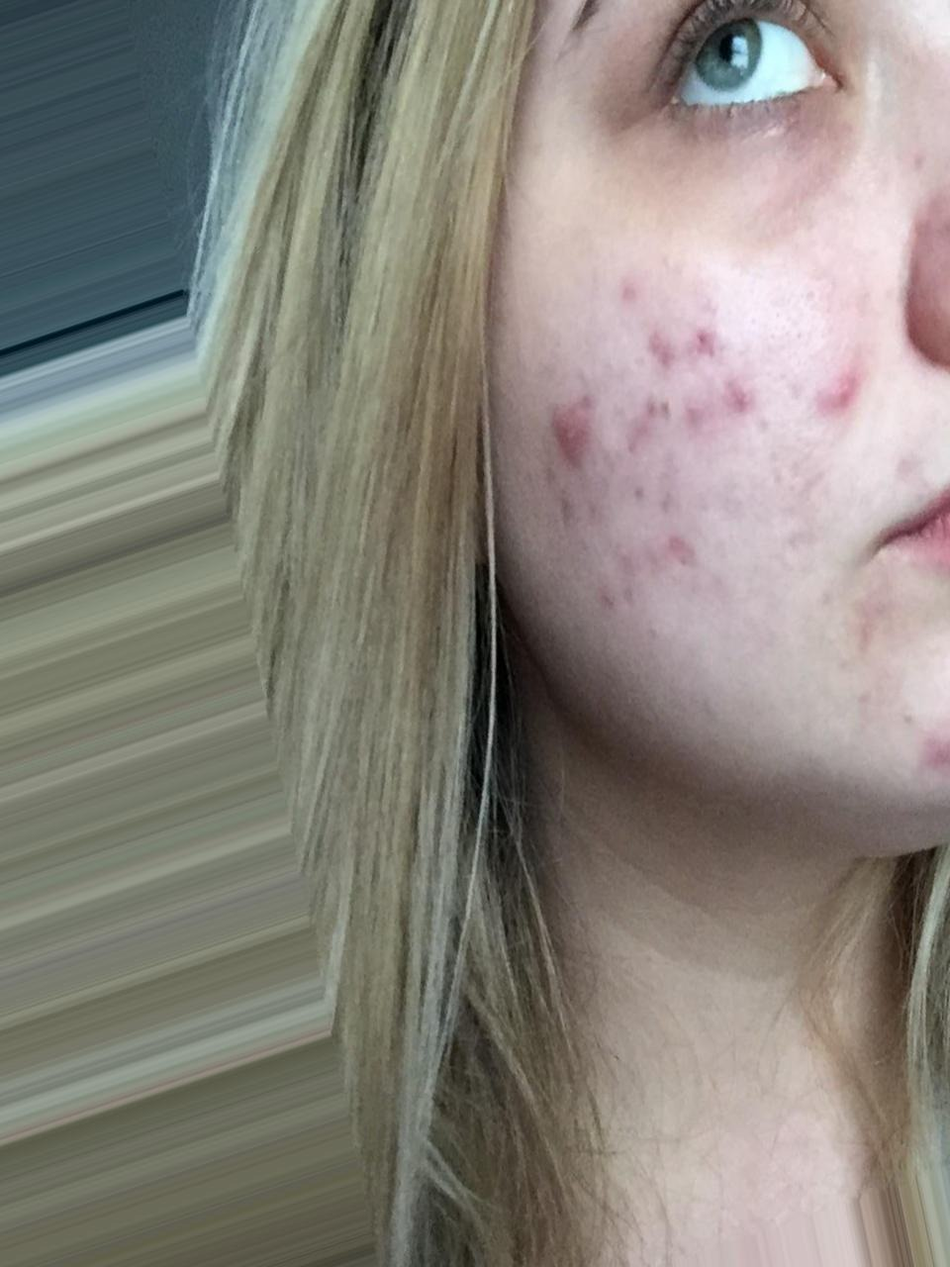Acne: (512, 288, 903, 662)
